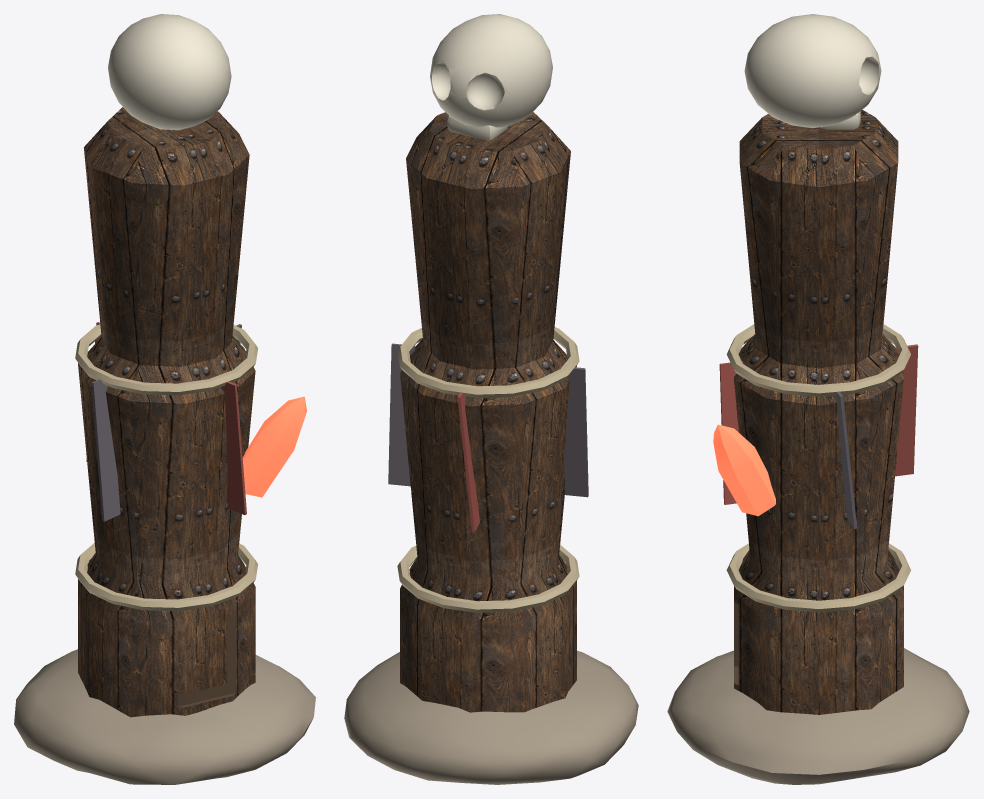
Rendered from ritual-totem-v01.glb.
3 renders of one model, left to right at view 1: azimuth 30°, elevation 25°; view 2: azimuth 150°, elevation 25°; view 3: azimuth 270°, elevation 25°, orthographic.
Visible parts, largest first — view 1: ritual-totem; view 2: ritual-totem; view 3: ritual-totem.
Boxes of the visible parts, x1,y1,x2,y2 form: ritual-totem: [14, 14, 315, 784]; ritual-totem: [344, 14, 638, 784]; ritual-totem: [667, 14, 969, 784].
Bounding box in the file's own units: 1.01 × 2.69 × 1.02.
Materials: 7 (2 with a texture image).
